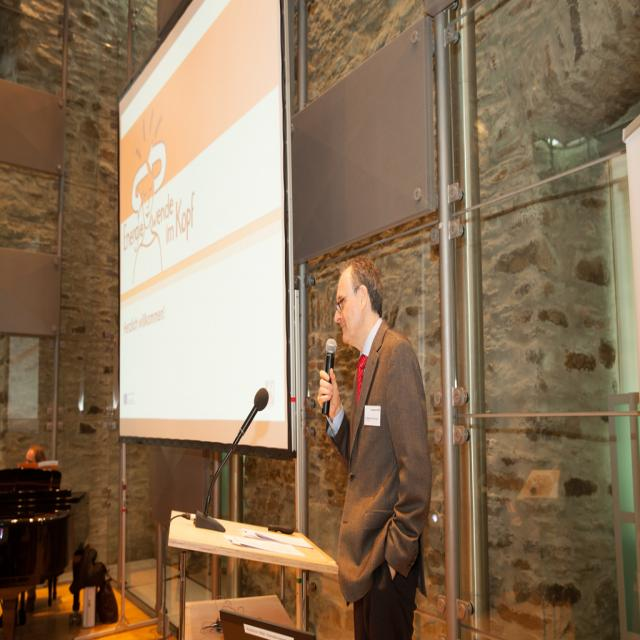desk: (154, 521, 328, 636)
person: (318, 256, 432, 636)
